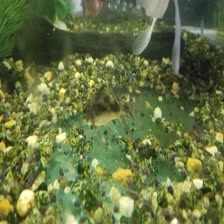Kiros: (77, 87, 144, 137)
